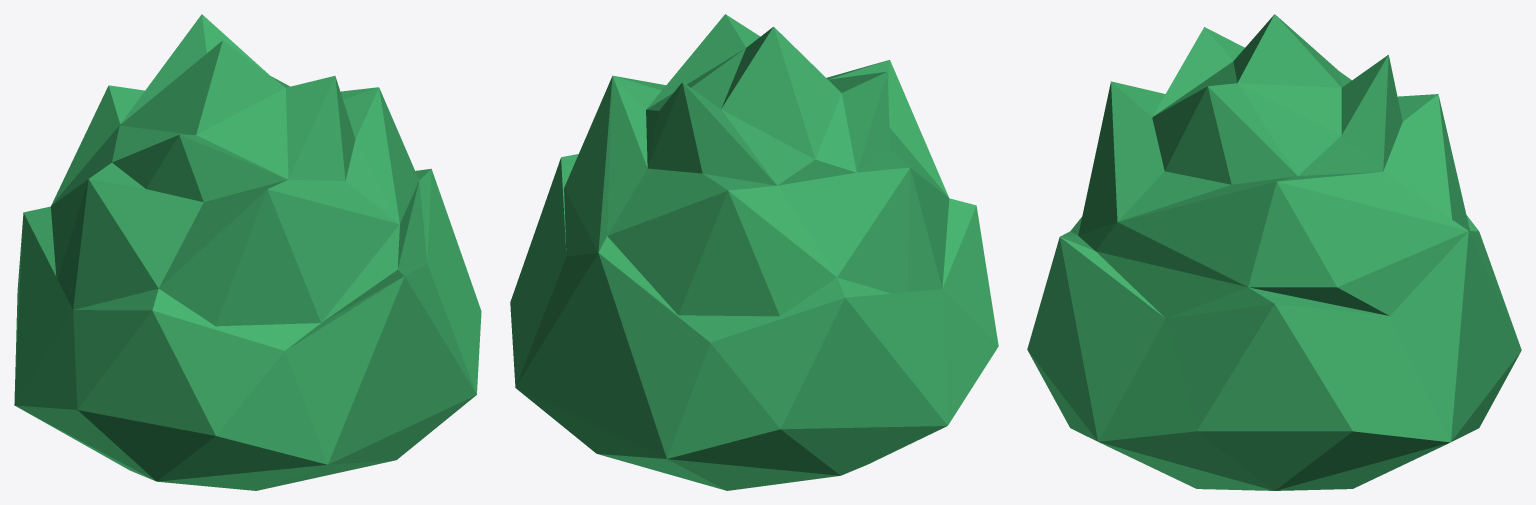
Rendered from bush9.fbx.
The picture shows the model from 3 angles, left to right: view 1: azimuth 30°, elevation 25°; view 2: azimuth 150°, elevation 25°; view 3: azimuth 270°, elevation 25°; orthographic projection. The views are drawn at different scales.
Visible parts, largest first — view 1: bush9; view 2: bush9; view 3: bush9.
Boxes of the visible parts, <box> form: bush9: <box>14,14,481,490</box>; bush9: <box>510,14,998,490</box>; bush9: <box>1027,14,1521,490</box>.
Bounding box in the file's own units: 102 × 101 × 103.
